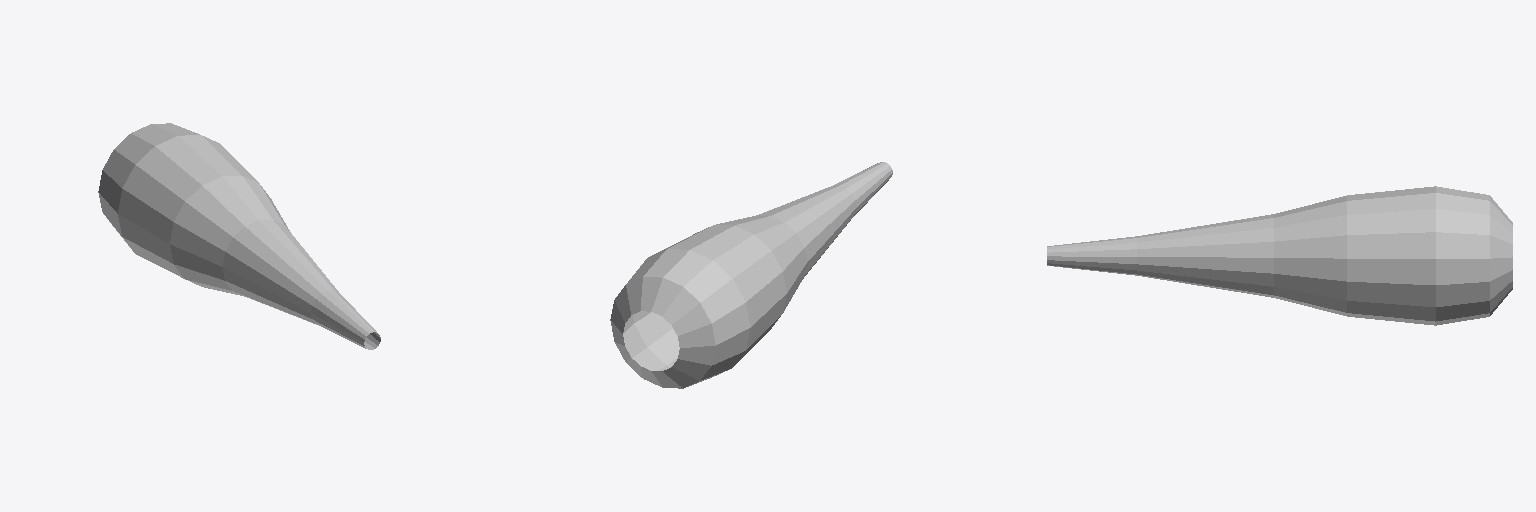
File: thrusterWIP.obj
3 renders of one model, left to right at view 1: azimuth 30°, elevation 25°; view 2: azimuth 150°, elevation 25°; view 3: azimuth 270°, elevation 25°, orthographic.
Visible parts, largest first — view 1: Cylinder; view 2: Cylinder; view 3: Cylinder.
Part boxes in pixels (left/top/right/bottom): Cylinder: left=98, top=123, right=380, bottom=349; Cylinder: left=610, top=162, right=892, bottom=388; Cylinder: left=1047, top=186, right=1512, bottom=325.
Bounding box in the file's own units: 1.24 × 1.24 × 4.13.